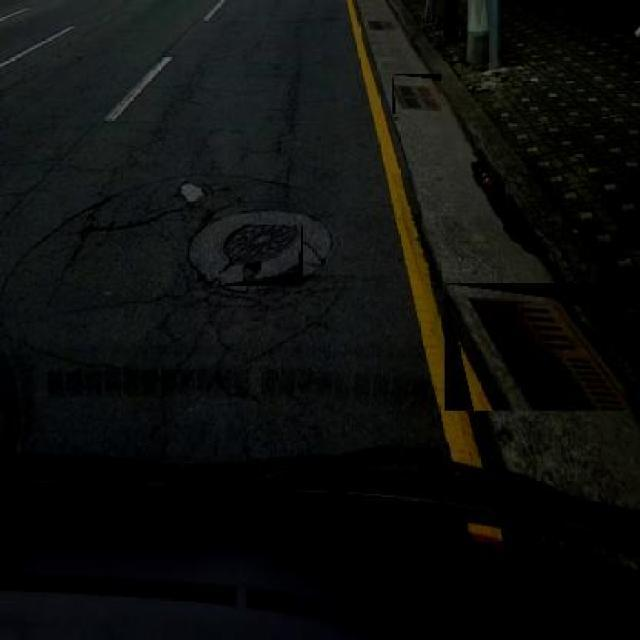Manhole: (444, 283, 624, 411), (218, 224, 304, 286), (392, 74, 442, 114), (367, 18, 397, 32)
Pothole: (175, 174, 207, 207)
